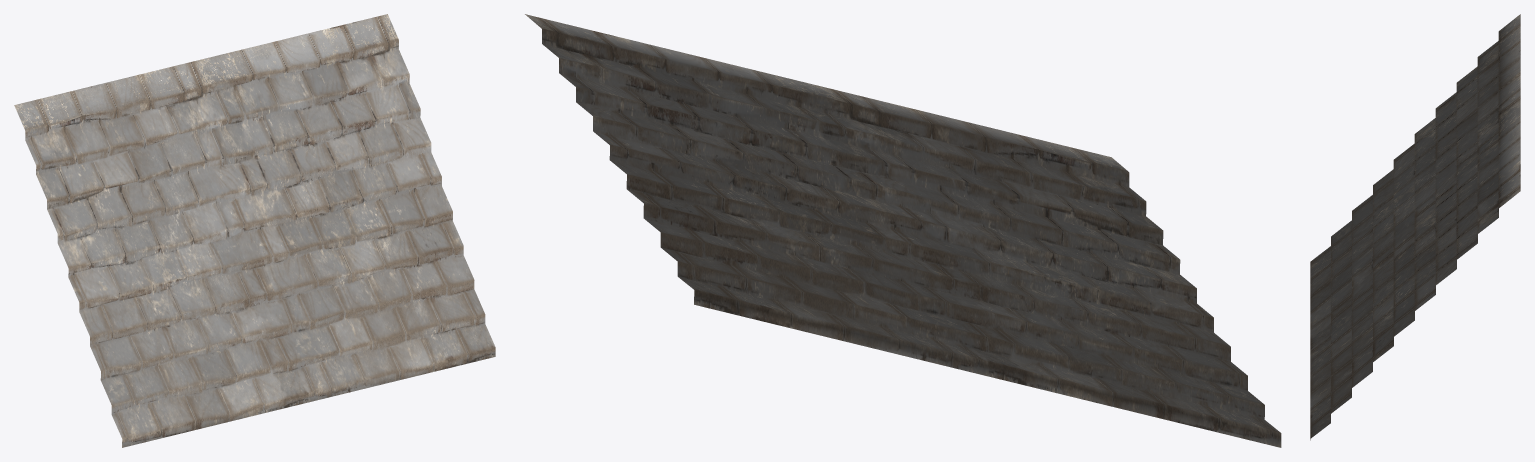
File: SM_Roof01_2_LOD0.glb
3 views of the same model, side by side, from view 1: azimuth 30°, elevation 25°; view 2: azimuth 150°, elevation 25°; view 3: azimuth 270°, elevation 25° (orthographic). The views are drawn at different scales.
Visible parts, largest first — view 1: SM_Roof01_2_LOD0; view 2: SM_Roof01_2_LOD0; view 3: SM_Roof01_2_LOD0.
Boxes of the visible parts, left/top/right/bottom form: SM_Roof01_2_LOD0: left=14, top=14, right=495, bottom=447; SM_Roof01_2_LOD0: left=525, top=14, right=1281, bottom=447; SM_Roof01_2_LOD0: left=1310, top=14, right=1520, bottom=440.
Size of the model in its own units: 4 by 2.7 by 2.
1 material, 1 textured.
